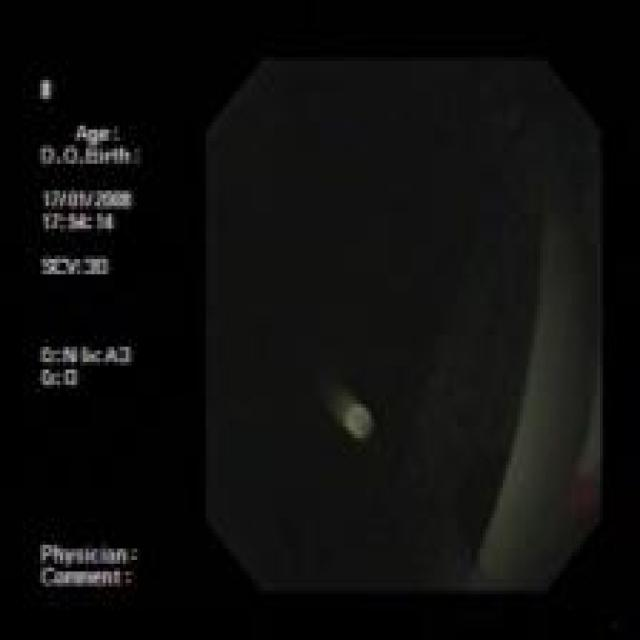color misalignment: (208, 58, 604, 597), (35, 74, 153, 600), (329, 386, 378, 444)
